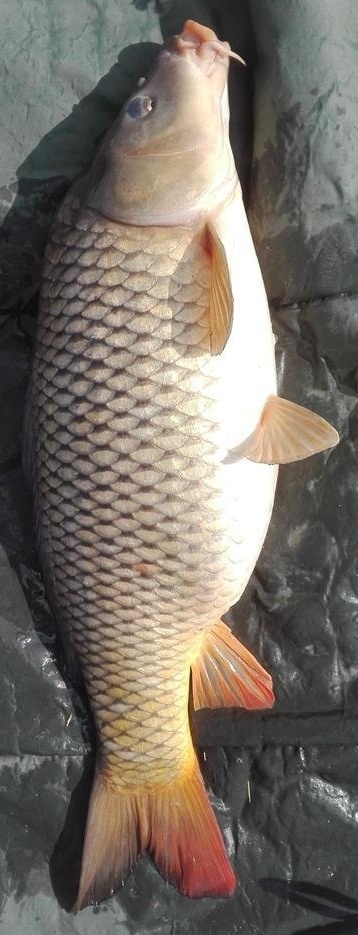Cyprinus carpio: (20, 20, 338, 915)
